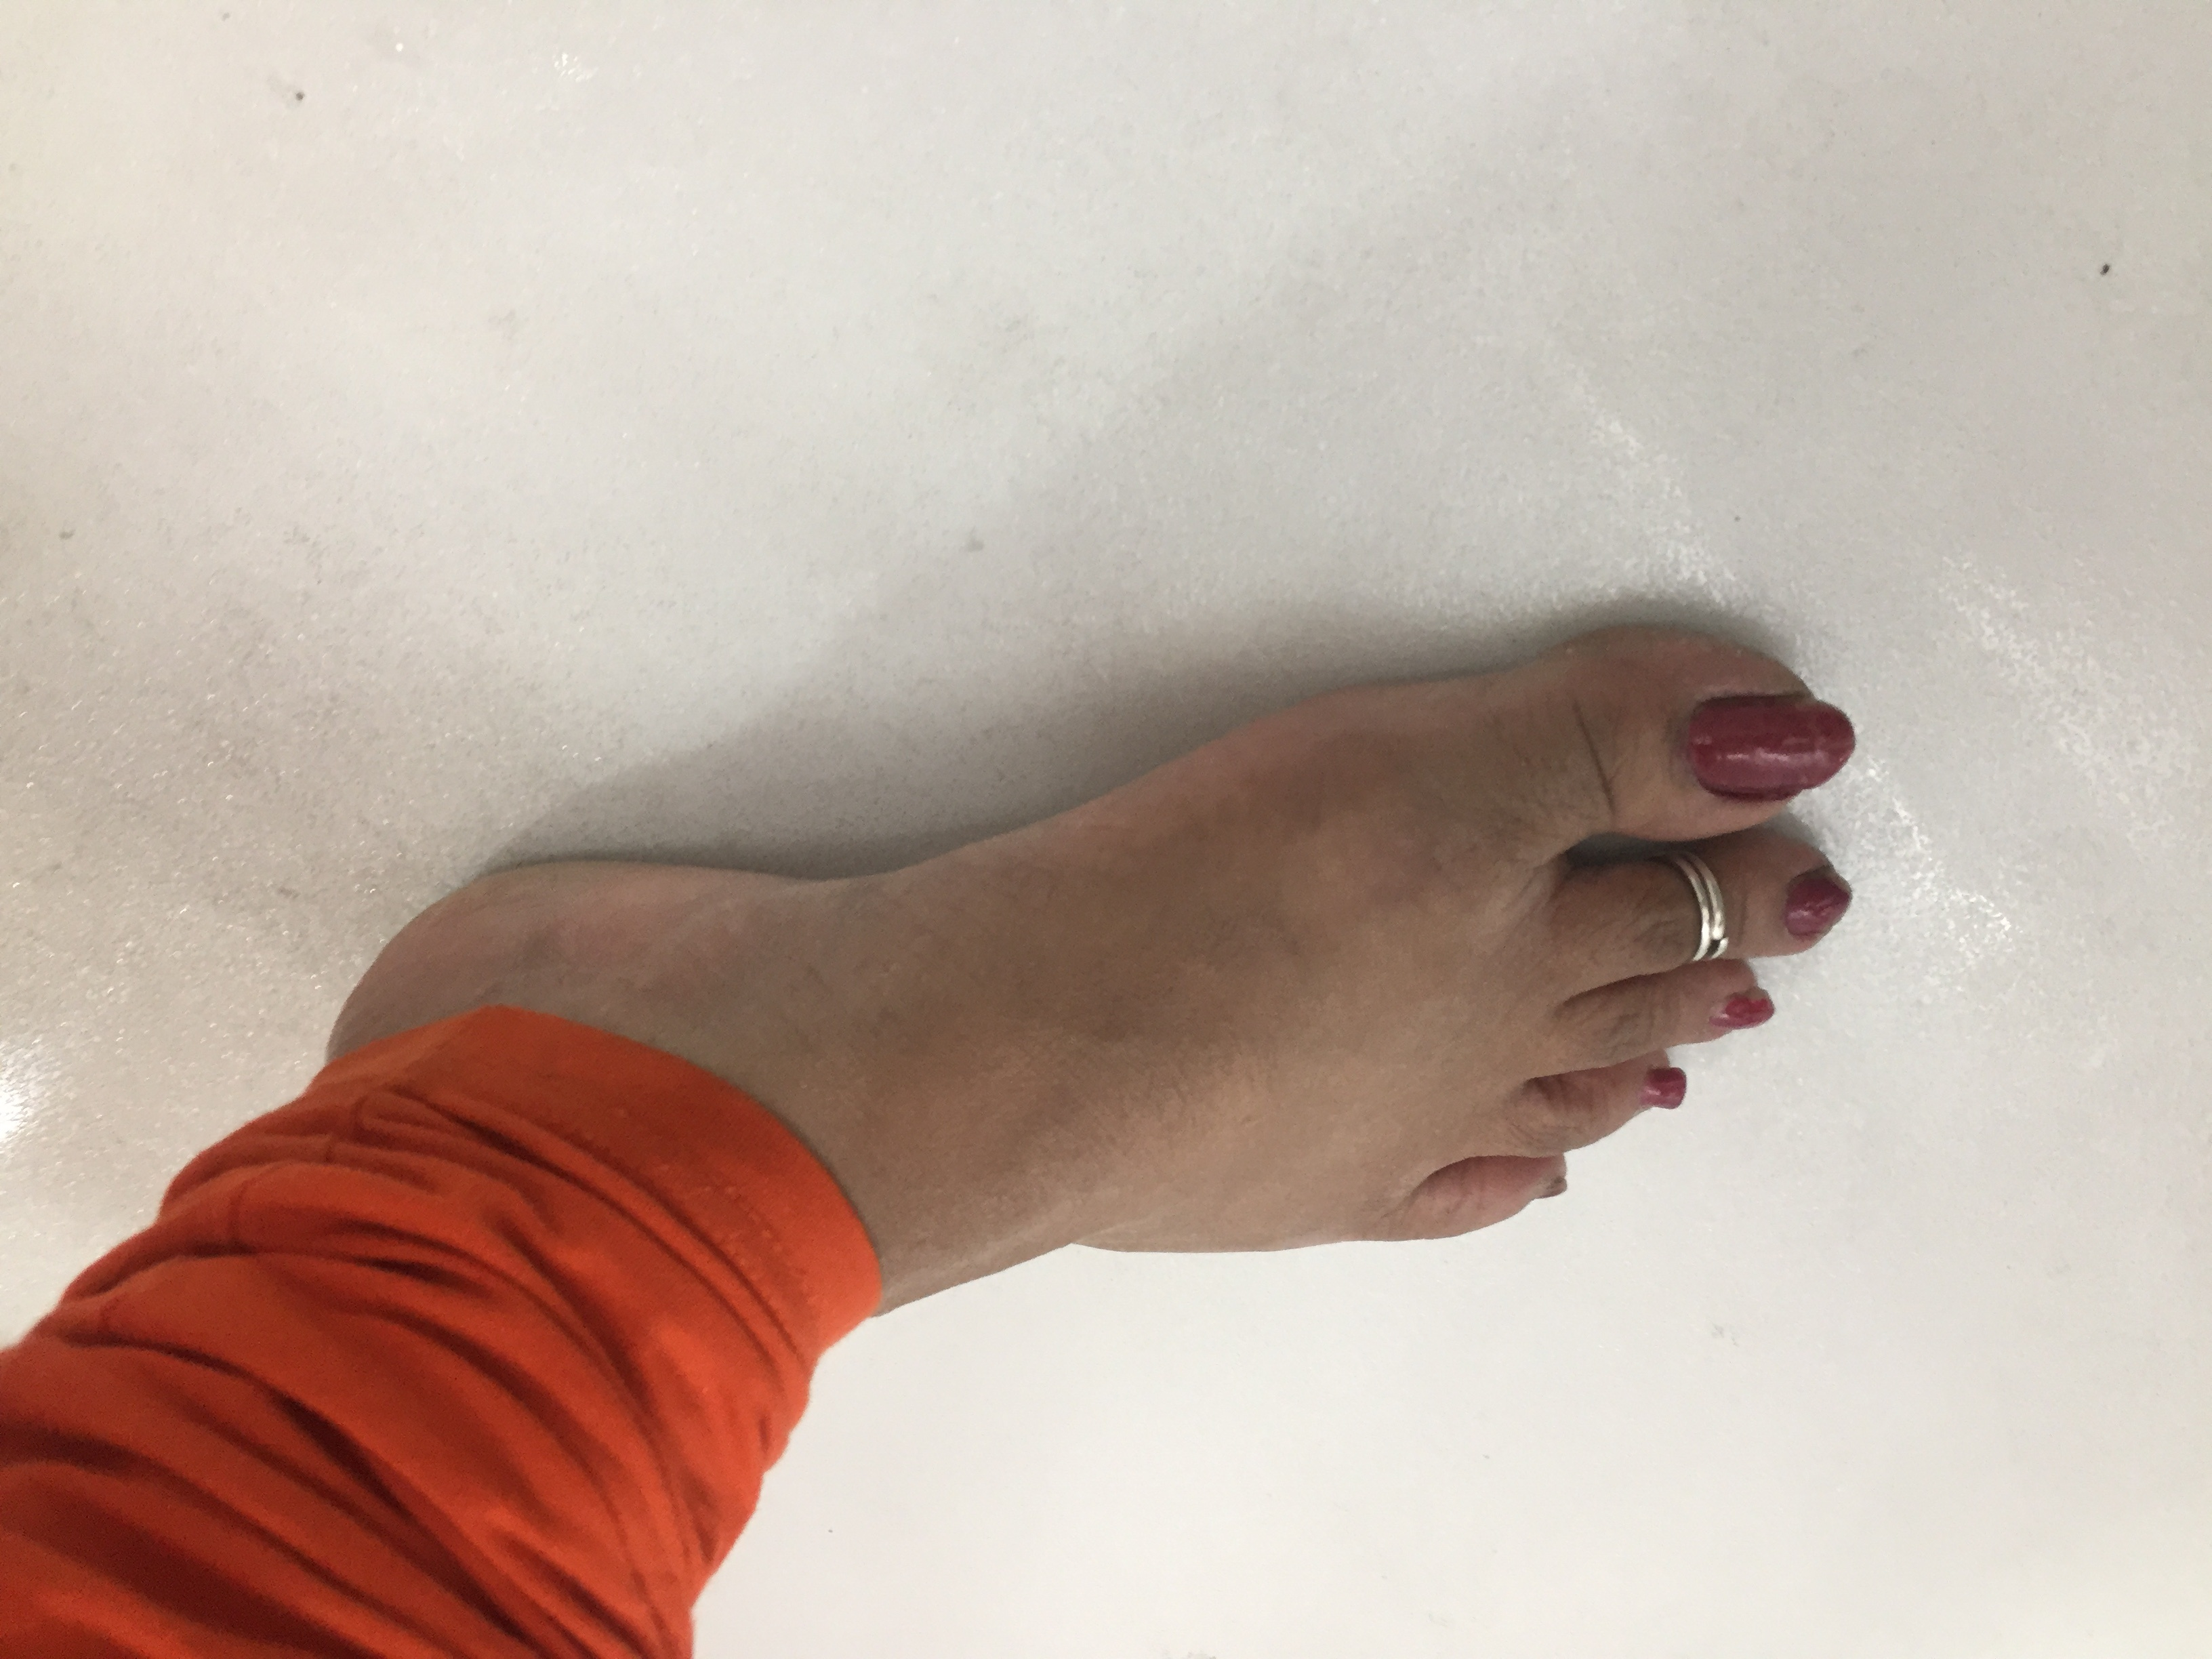feet: (253, 521, 1878, 1398)
